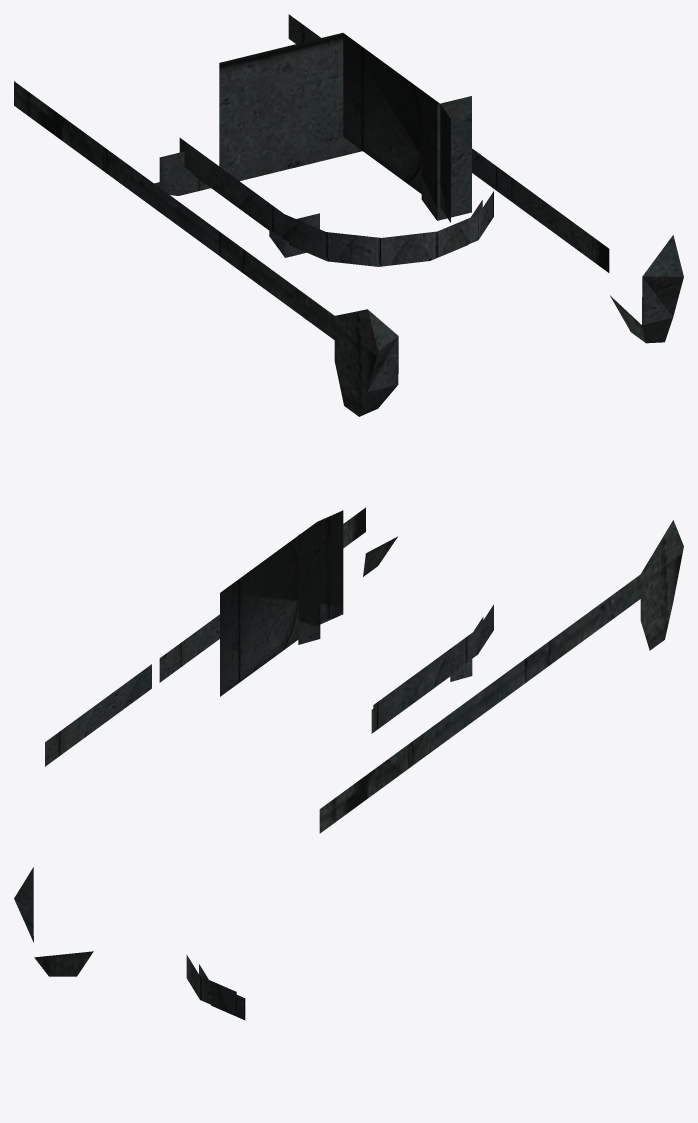
3 views of the same model, one above another, from view 1: azimuth 30°, elevation 25°; view 2: azimuth 150°, elevation 25°; view 3: azimuth 270°, elevation 25° (orthographic). The views are drawn at different scales.
Visible parts, largest first — view 1: model_Object19; view 2: model_Object19; view 3: model_Object19.
Part boxes in pixels (x1=…): model_Object19: x1=14, y1=14, x2=683, y2=416; model_Object19: x1=45, y1=507, x2=683, y2=833; model_Object19: x1=14, y1=867, x2=245, y2=1019.
Size of the model in its own units: 4 by 2.04 by 8.26.
2 materials, 2 textured.
